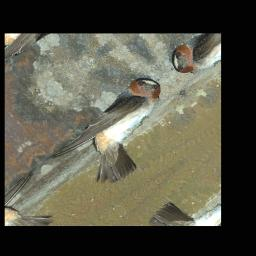Swallow: (40, 70, 197, 204)
